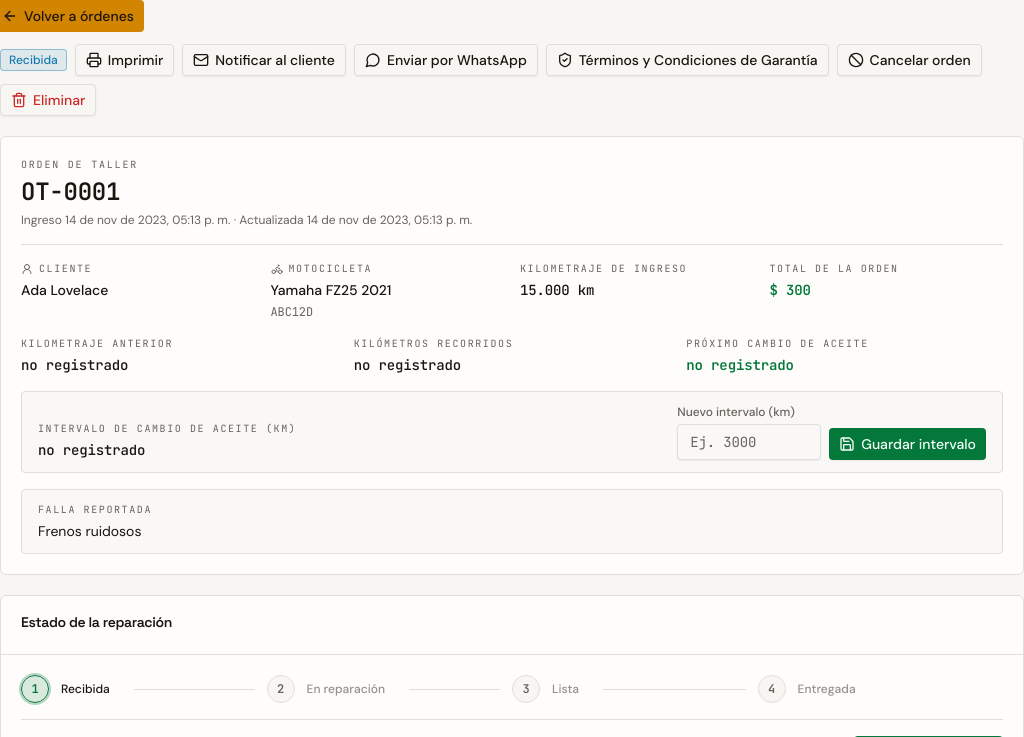
Service-terms footer removal (cover) › keeps the warranty terms block independent of the service-terms footer
Expected: the heading "OT-0001" is shown, [21,176,120,207]
Click the button with test id "order_detail.warranty_button". click: click(687, 60)
box: [546,44,829,76]
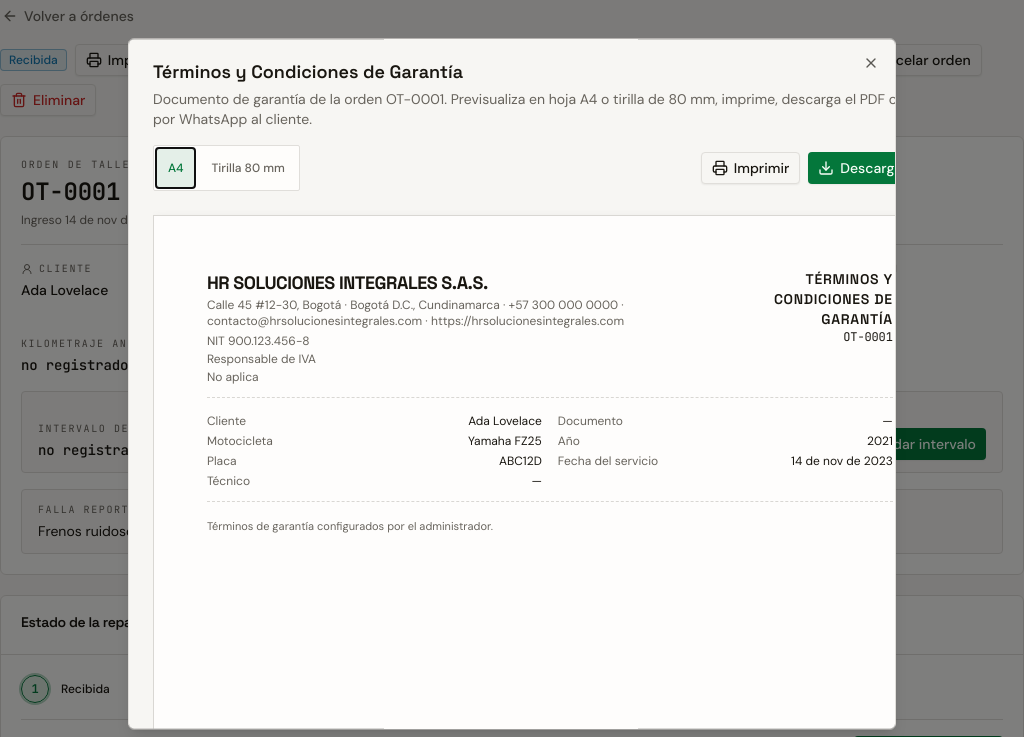
Expected: the text with test id "order_detail.warranty_document.terms_text" does not show "Pie de servicio configurado por el administrador.", [207,519,493,533]
Expected: the text with test id "order_detail.warranty_document.terms_text" reads "Términos de garantía configurados por el administrador.", [207,519,493,533]
